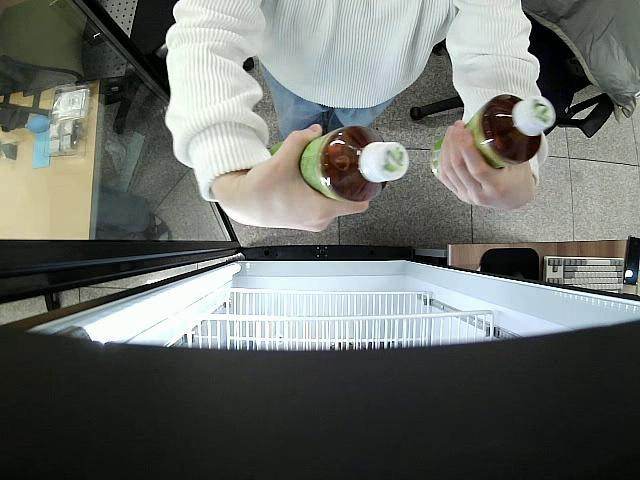19_17cha: (431, 94, 556, 188), (266, 125, 410, 204)
